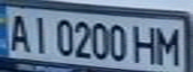0: (106, 20, 130, 63), (51, 16, 75, 57), (90, 19, 112, 61)
2: (69, 17, 93, 60)
A: (3, 10, 33, 53)
H: (130, 22, 160, 65)
I: (27, 12, 54, 54)
M: (151, 24, 184, 66)
